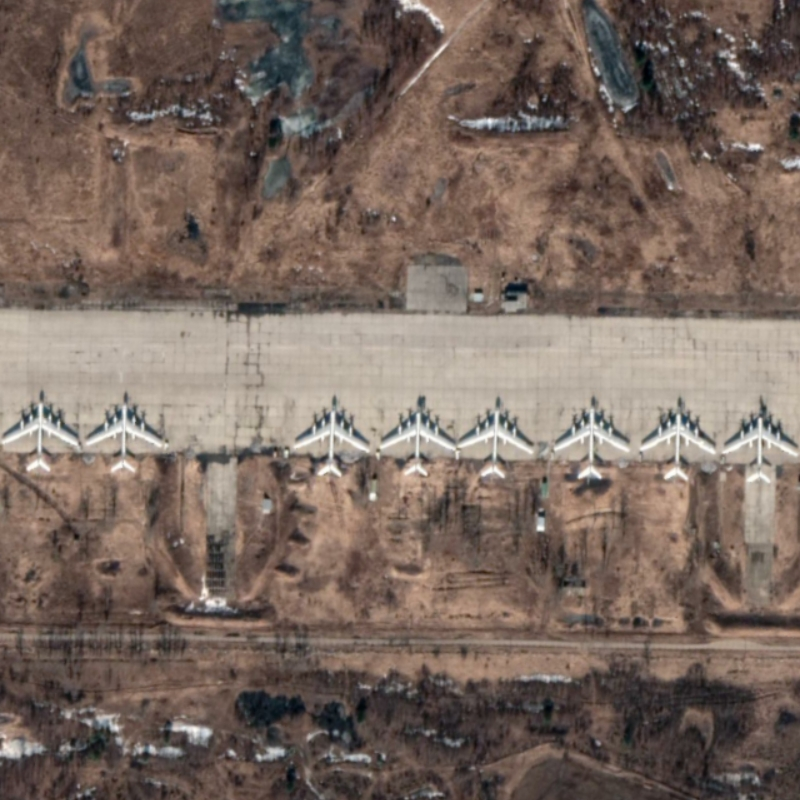A17: (552, 404, 633, 481), (456, 405, 536, 481), (291, 406, 372, 479), (637, 410, 718, 483), (85, 402, 165, 475), (1, 400, 81, 473), (721, 413, 800, 484), (379, 409, 459, 478)
